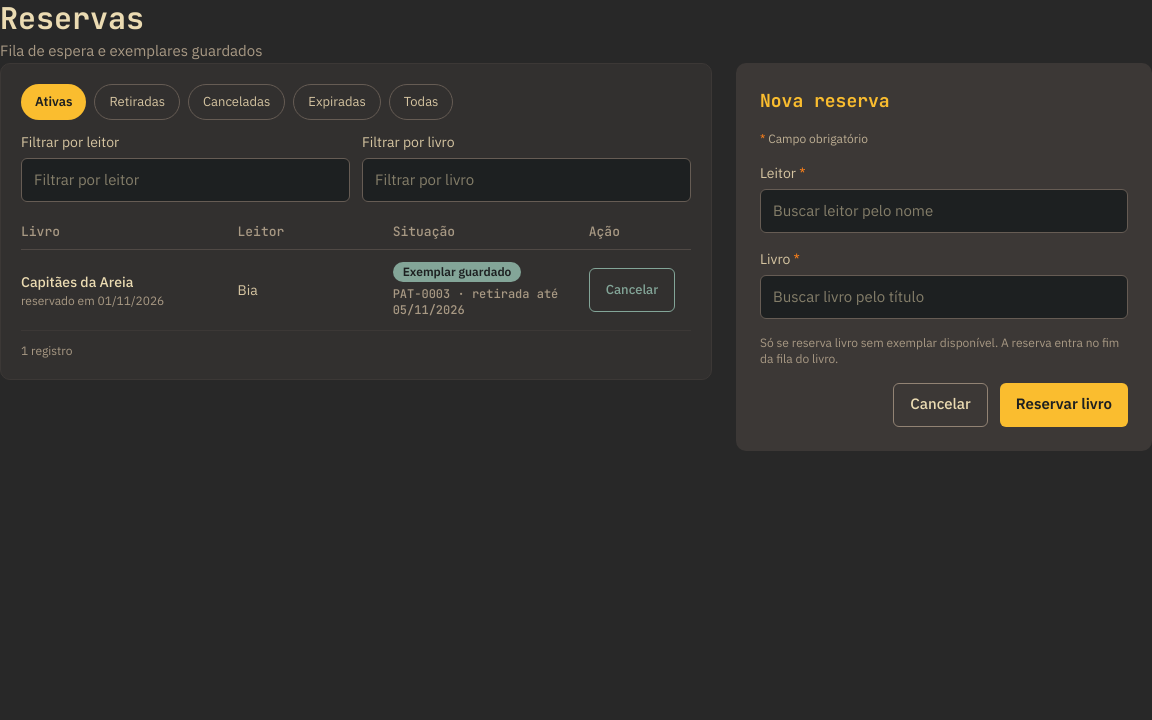
Test: reservas: cancelar › confirma, cancela e avisa quem recebeu o exemplar
Step 1. Click the button with aria-label "Cancelar reserva" → click(632, 290), box left=589, top=268, right=675, bottom=312
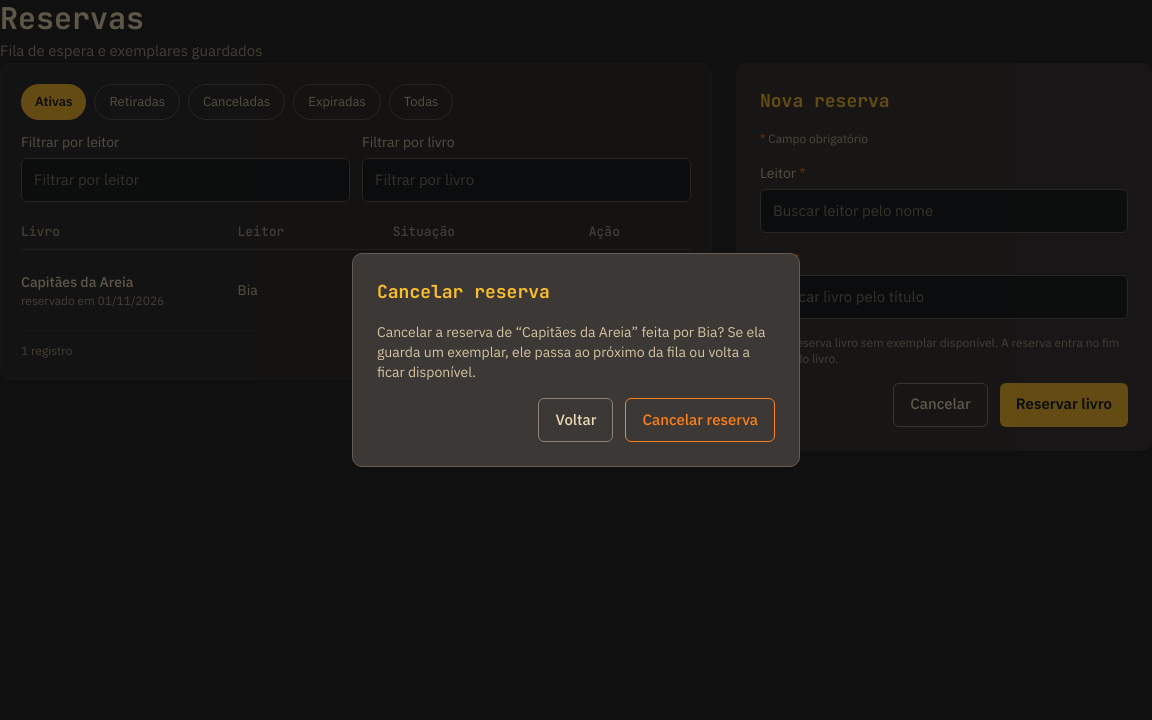
Step 2. Click the button "Cancelar reserva" → click(700, 420), box left=626, top=398, right=775, bottom=442
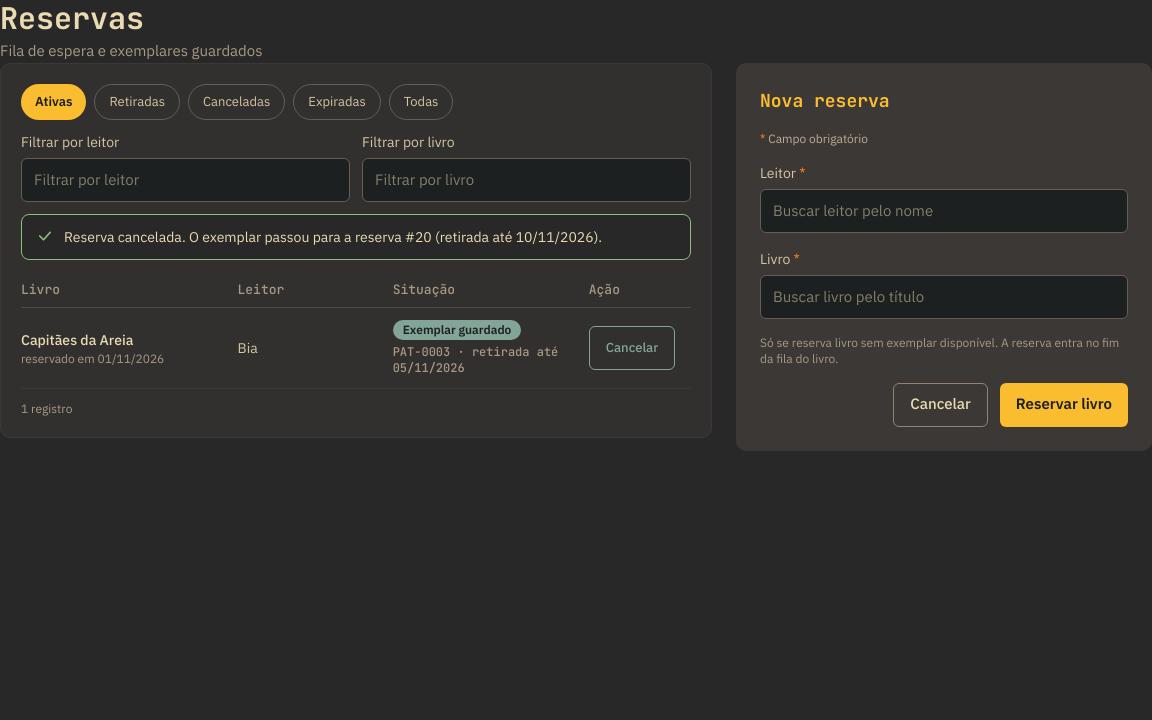
Expected: the text "10/11/2026" is shown, left=64, top=228, right=602, bottom=246
